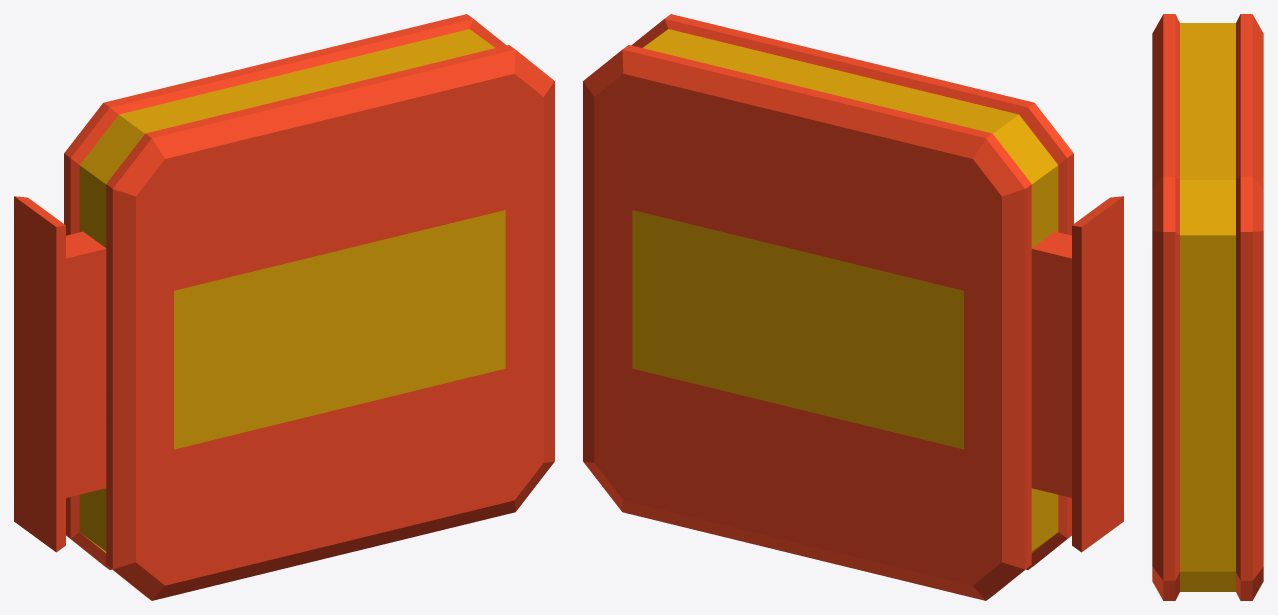
The model's file is SM_Neon_Gas_B_City.fbx.
The picture shows the model from 3 angles, left to right: view 1: azimuth 30°, elevation 25°; view 2: azimuth 150°, elevation 25°; view 3: azimuth 270°, elevation 25°; orthographic projection. The views are drawn at different scales.
Parts seen in each view (by area): view 1: SM_Neon_Gas_B_City; view 2: SM_Neon_Gas_B_City; view 3: SM_Neon_Gas_B_City.
Boxes of the visible parts, x1,y1,x2,y2 form: SM_Neon_Gas_B_City: [14, 14, 554, 600]; SM_Neon_Gas_B_City: [583, 14, 1123, 600]; SM_Neon_Gas_B_City: [1152, 14, 1263, 600].
Size of the model in its own units: 0.7076 by 0.6317 by 0.1504.
